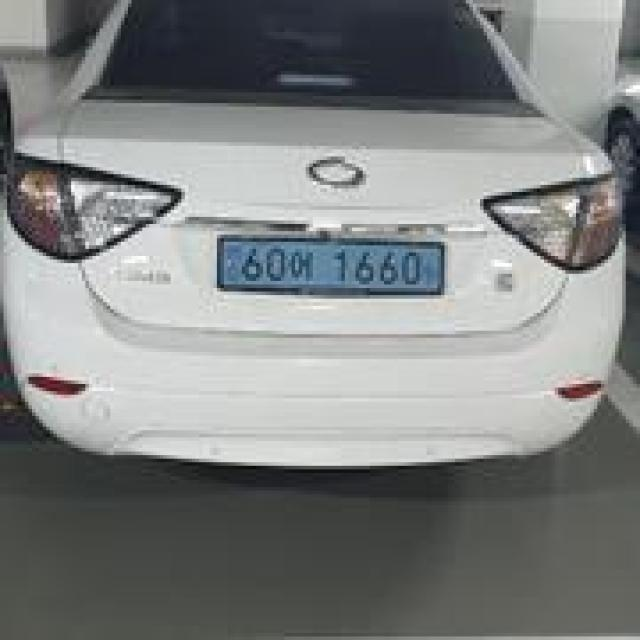EV_plate: (218, 236, 448, 308)
car: (2, 0, 640, 476)
